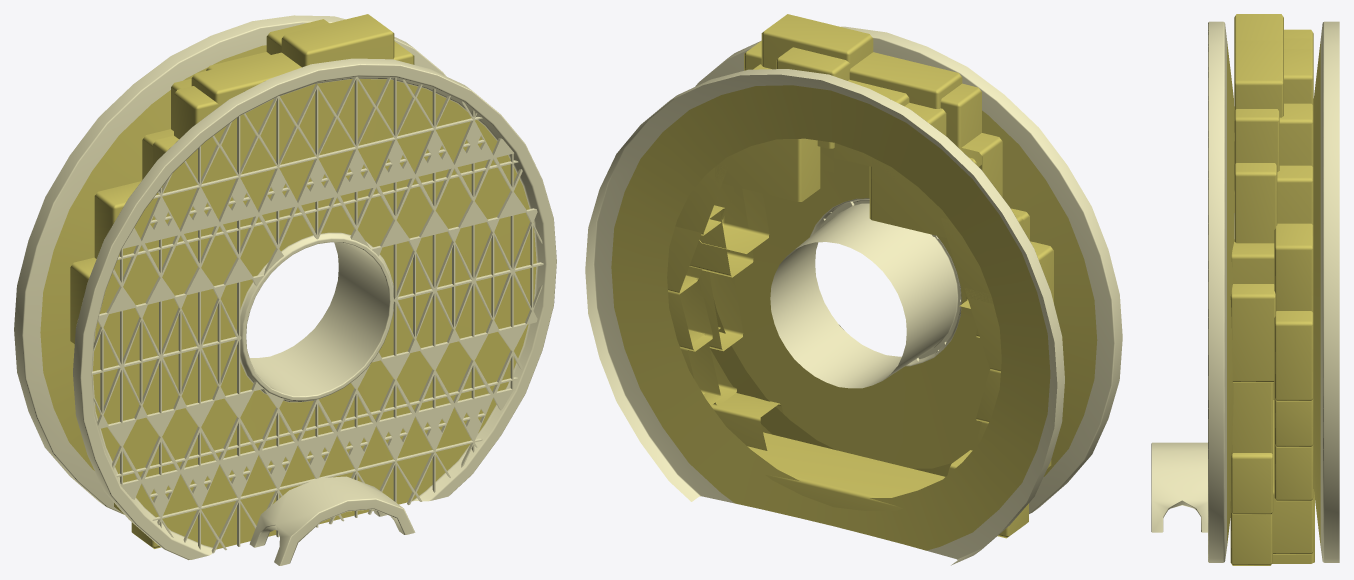
File: YuanDaSha.fbx
3 views of the same model, side by side, from view 1: azimuth 30°, elevation 25°; view 2: azimuth 150°, elevation 25°; view 3: azimuth 270°, elevation 25° (orthographic).
Parts seen in each view (by area): view 1: YuanDaSha; view 2: YuanDaSha; view 3: YuanDaSha.
Part boxes in pixels (left/top/right/bottom): YuanDaSha: left=14, top=14, right=556, bottom=565; YuanDaSha: left=585, top=14, right=1122, bottom=565; YuanDaSha: left=1151, top=14, right=1339, bottom=565.
Bounding box in the file's own units: 137 × 128 × 47.42.
